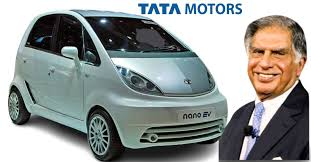Nano: (6, 9, 227, 162)
